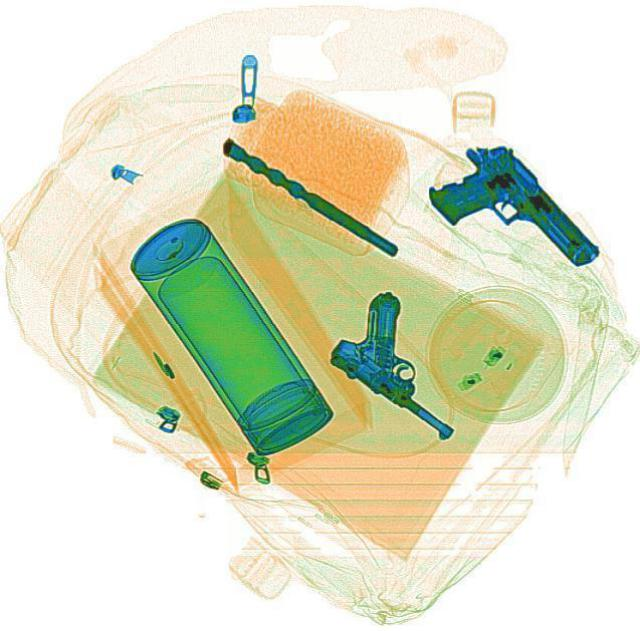Gun: (418, 132, 604, 307), (316, 283, 504, 444)
